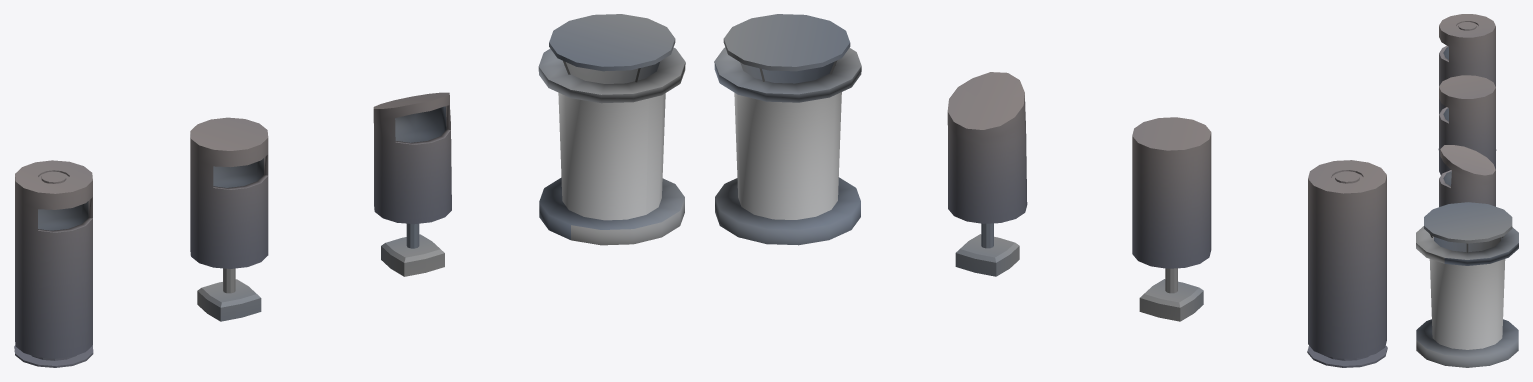
The model's file is roskakori.fbx.
3 views of the same model, side by side, from view 1: azimuth 30°, elevation 25°; view 2: azimuth 150°, elevation 25°; view 3: azimuth 270°, elevation 25° (orthographic). The views are drawn at different scales.
Parts seen in each view (by area): view 1: roskakori_c, roskakori_d, roskakori_a, roskakori_b; view 2: roskakori_c, roskakori_d, roskakori_a, roskakori_b; view 3: roskakori_c, roskakori_a, roskakori_d, roskakori_b.
Part boxes in pixels (x1,y1,x2,y2): roskakori_c: (538, 14, 685, 245); roskakori_d: (14, 160, 93, 367); roskakori_a: (190, 117, 268, 321); roskakori_b: (373, 92, 451, 276); roskakori_c: (714, 14, 861, 245); roskakori_d: (1307, 160, 1387, 367); roskakori_a: (1132, 117, 1211, 321); roskakori_b: (947, 72, 1027, 276); roskakori_c: (1416, 202, 1518, 367); roskakori_a: (1439, 75, 1495, 174); roskakori_d: (1438, 14, 1496, 150); roskakori_b: (1439, 145, 1495, 206).
Size of the model in its own units: 16.19 by 4.16 by 3.07.
